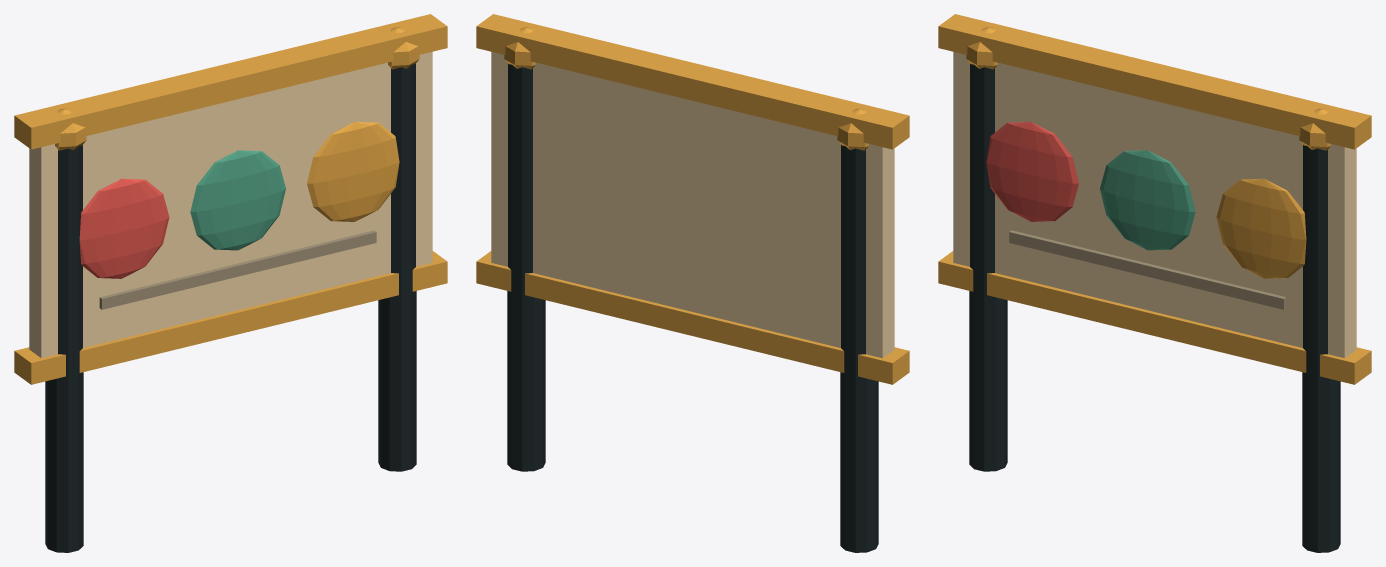
The model's file is ParkParkLandmarkSponsor.obj.
3 views of the same model, side by side, from view 1: azimuth 30°, elevation 25°; view 2: azimuth 150°, elevation 25°; view 3: azimuth 330°, elevation 25° (orthographic).
Parts seen in each view (by area): view 1: ParkParkLandmarkSponsor; view 2: ParkParkLandmarkSponsor; view 3: ParkParkLandmarkSponsor.
Boxes of the visible parts, x1=… form: ParkParkLandmarkSponsor: x1=14, y1=14, x2=447, y2=552; ParkParkLandmarkSponsor: x1=476, y1=14, x2=909, y2=552; ParkParkLandmarkSponsor: x1=938, y1=14, x2=1371, y2=552.
Size of the model in its own units: 10 by 10 by 0.9511.
